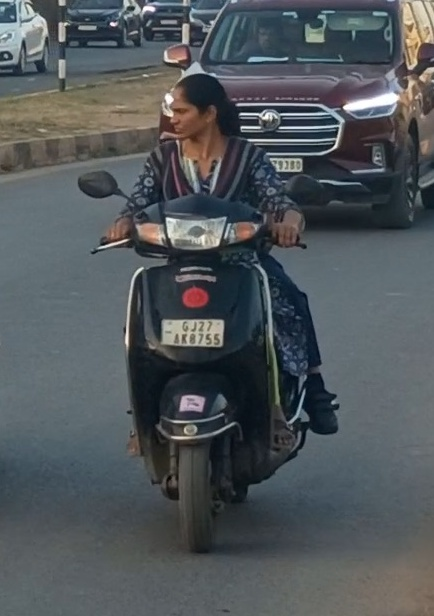BikeWithRider: (68, 67, 349, 559)
NoHelmet: (156, 69, 238, 146)
